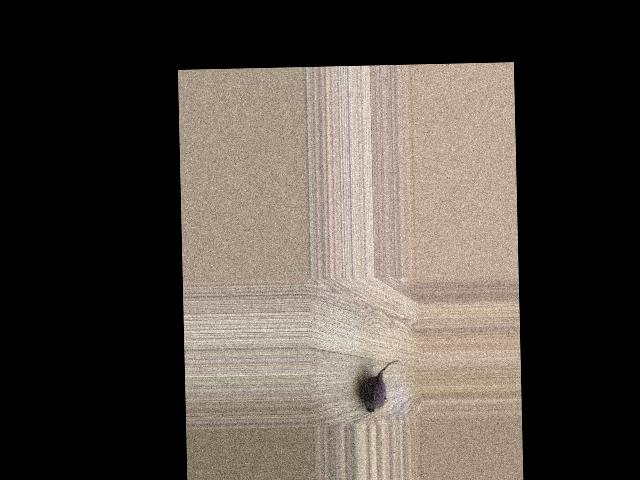beet: (361, 358, 401, 411)
